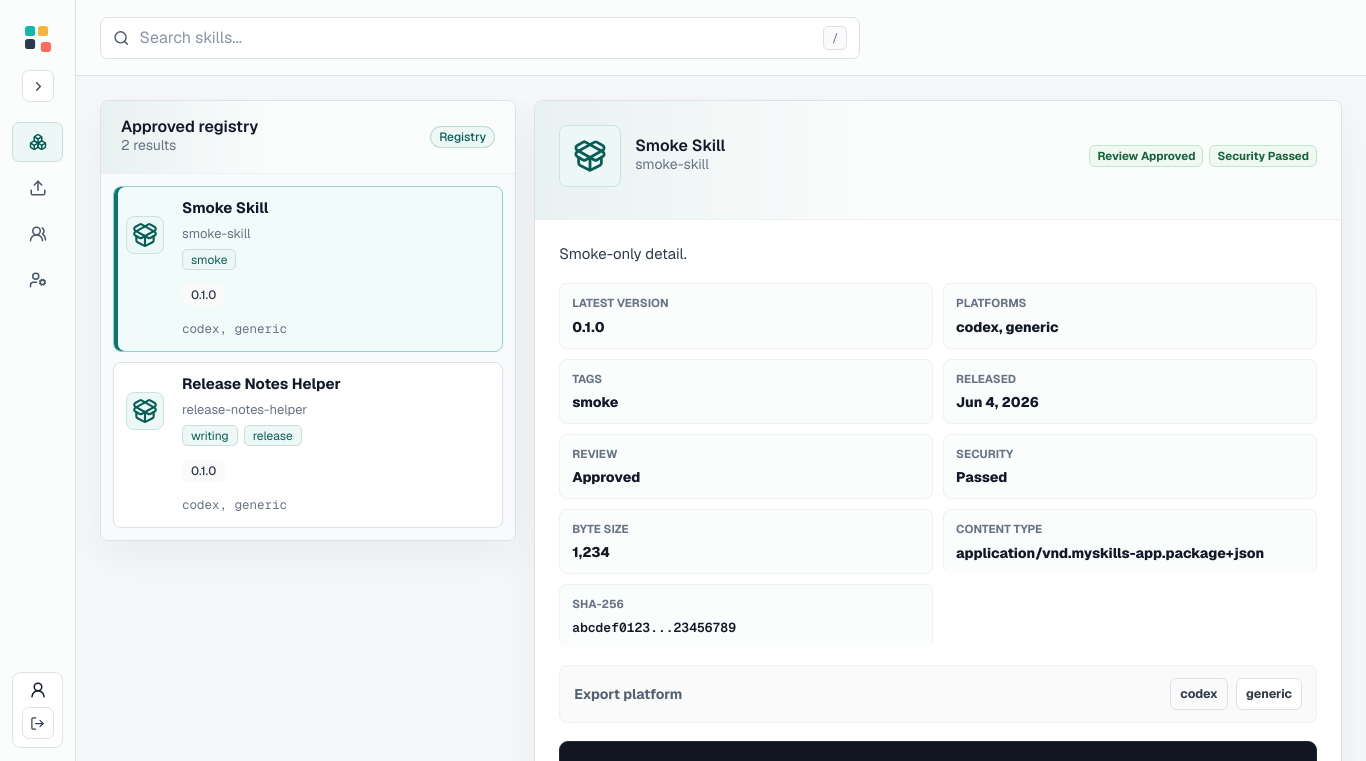
Test: searching selects a matching result when the current detail is filtered out
Expected: the text "Smoke-only detail." is shown, x1=559 y1=244 x2=687 y2=263
In the field with placeholder "Search skills...": (476, 38) x1=140 y1=26 x2=813 y2=50, type "release"
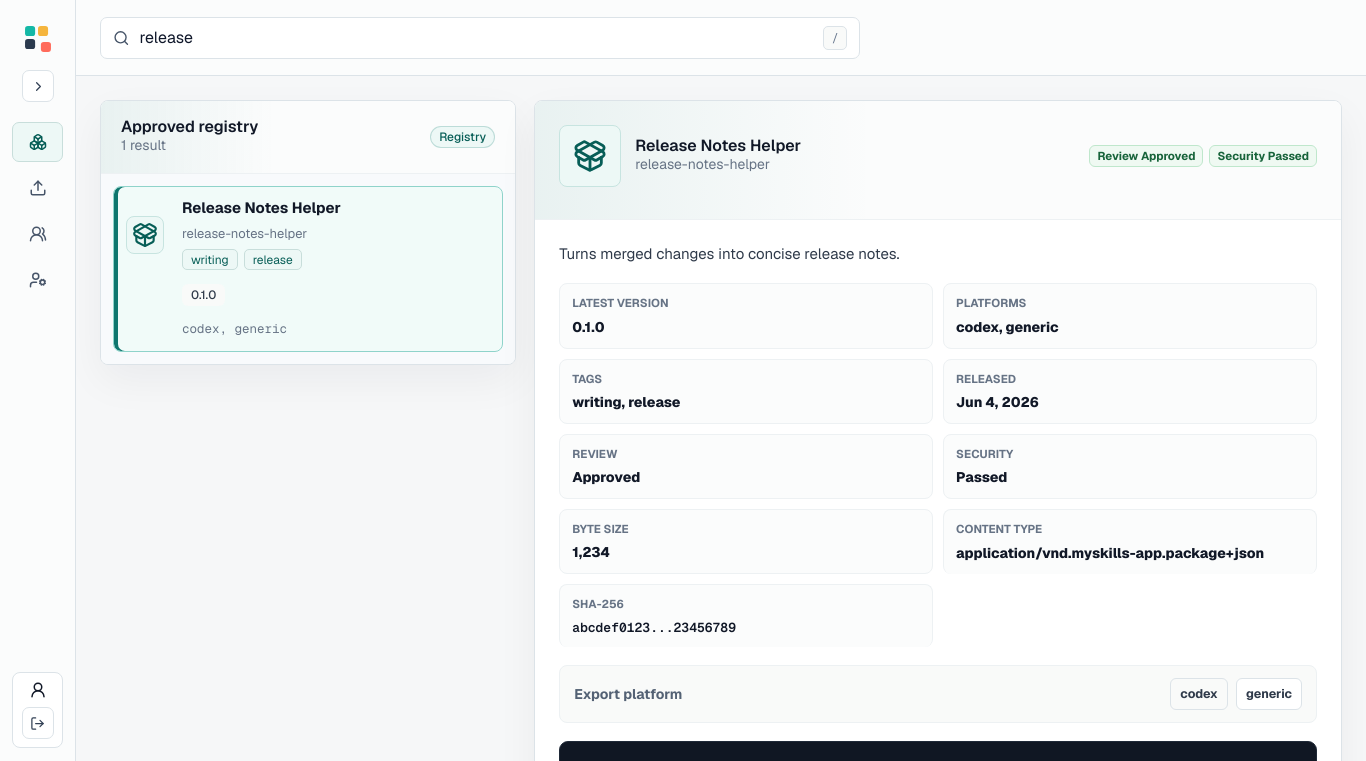
Expected: the text "Turns merged changes into concise release notes." is shown, x1=559 y1=244 x2=900 y2=263
